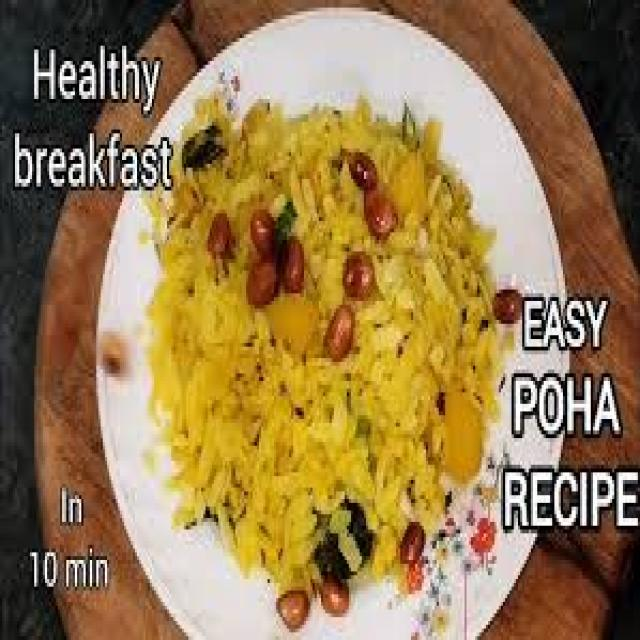POHA: (147, 103, 499, 588)
